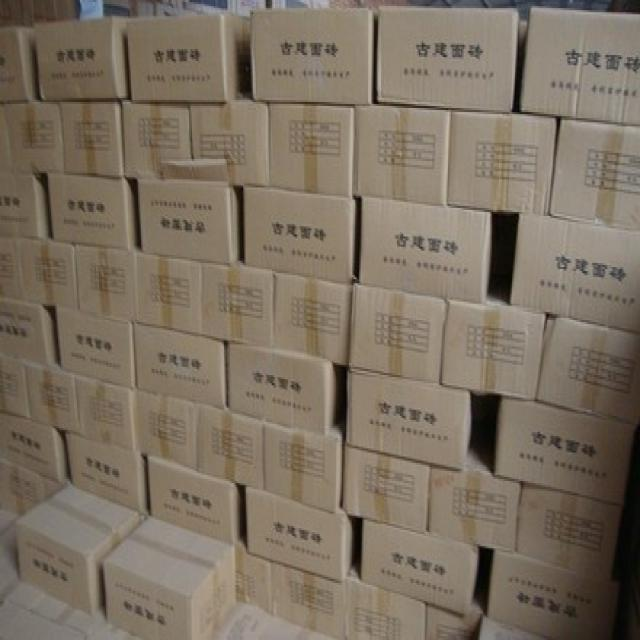box: (103, 516, 237, 640), (17, 485, 143, 616), (495, 397, 637, 508), (511, 214, 640, 330), (377, 6, 518, 112), (358, 198, 493, 306), (522, 6, 640, 126), (346, 373, 473, 473), (359, 520, 480, 618), (250, 10, 372, 106), (448, 110, 556, 218), (535, 314, 640, 424), (486, 550, 612, 640), (127, 14, 253, 104), (439, 298, 545, 402), (137, 159, 243, 263), (243, 188, 356, 283), (515, 483, 621, 579), (227, 342, 337, 434), (244, 489, 353, 581), (349, 283, 444, 387), (551, 120, 640, 228), (355, 108, 451, 206), (268, 100, 355, 200), (148, 457, 241, 546), (33, 18, 129, 104), (426, 469, 522, 552), (342, 446, 431, 534), (272, 271, 351, 367), (263, 418, 345, 510), (135, 326, 225, 408), (47, 173, 138, 253), (202, 261, 275, 353), (55, 306, 135, 389), (67, 436, 148, 514), (192, 104, 271, 183), (198, 402, 265, 493), (269, 565, 345, 640), (134, 255, 202, 334), (124, 100, 192, 177), (58, 100, 124, 179), (345, 575, 425, 640), (134, 391, 198, 471), (17, 236, 81, 312), (0, 414, 67, 485), (76, 245, 134, 326), (76, 373, 137, 450), (0, 98, 64, 171), (0, 296, 58, 369), (0, 461, 64, 516), (31, 363, 79, 436), (0, 26, 42, 104), (0, 171, 48, 234), (234, 544, 275, 614), (426, 603, 483, 640), (0, 353, 29, 422), (0, 234, 25, 298), (479, 620, 541, 640)
